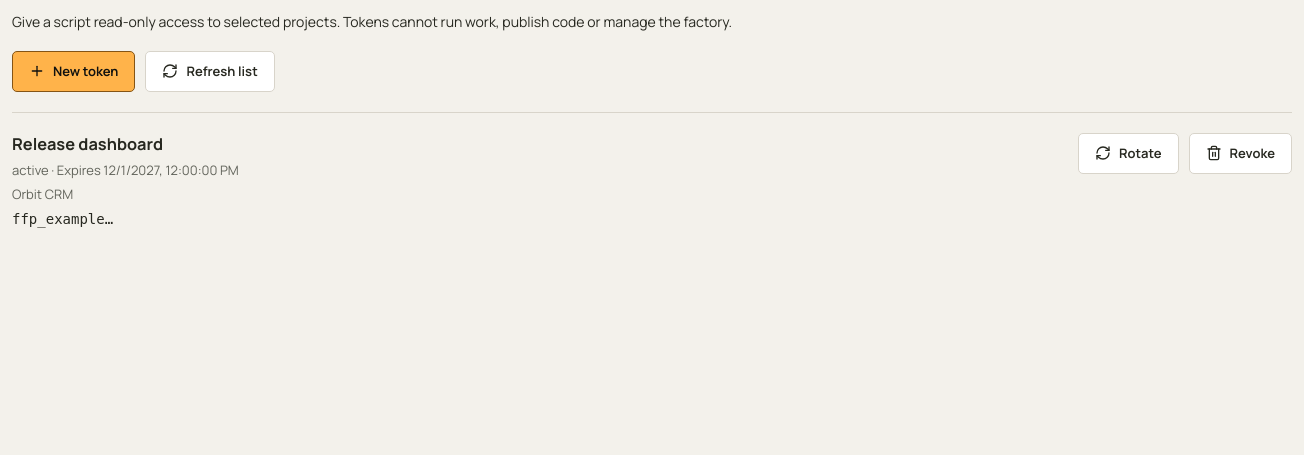
Test case: requires confirmation before revoking and never replays a failed mutation
Click the button with aria-label "Revoke Release dashboard" at (1240, 153), box [1189,133,1292,174]
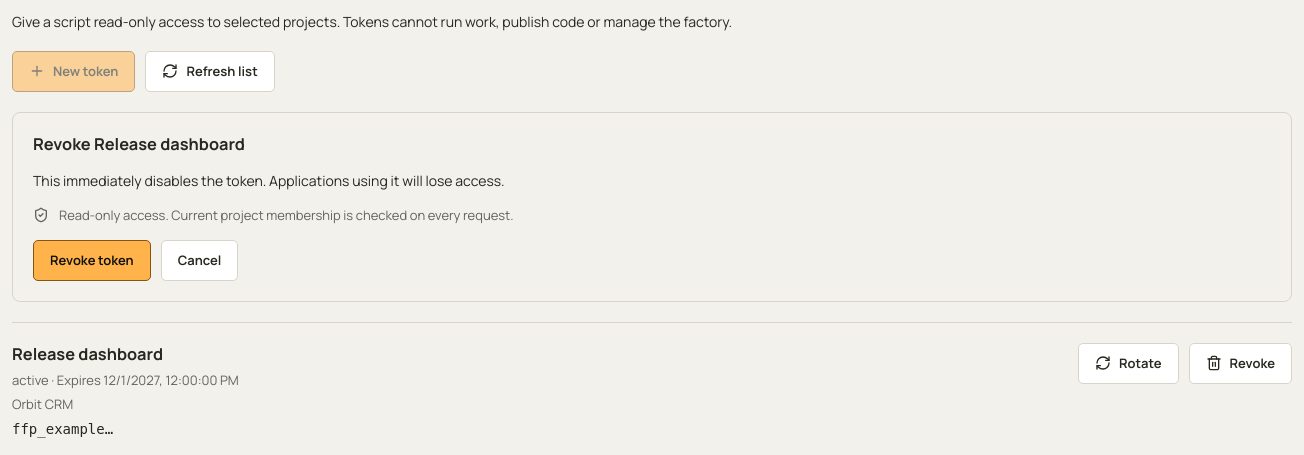
Click the button "Revoke token" at (92, 260), box [33,240,151,281]
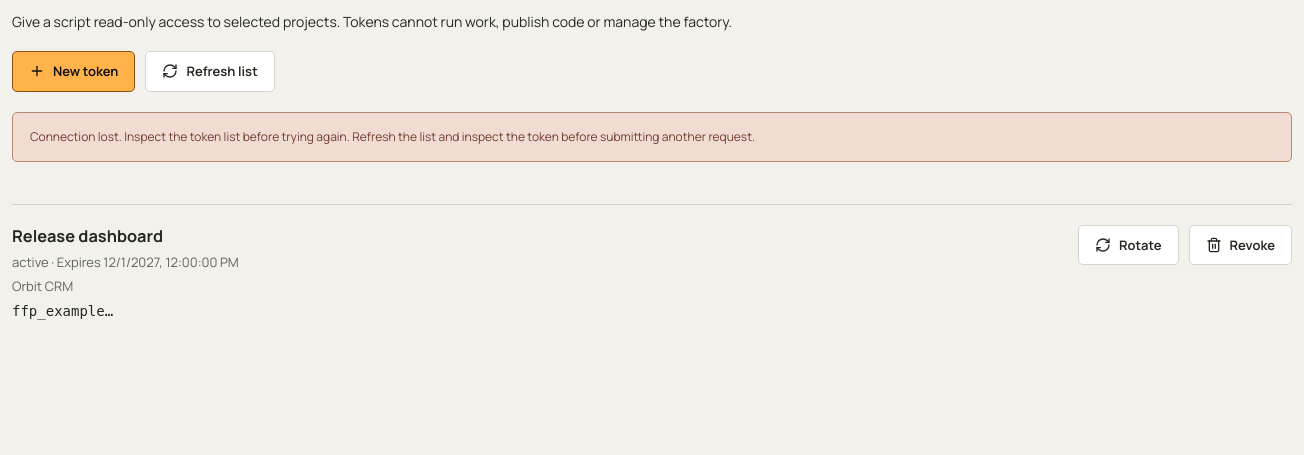
Expected: the message is shown, [12,112,1292,162]
Expected: the button "Revoke token" is gone
